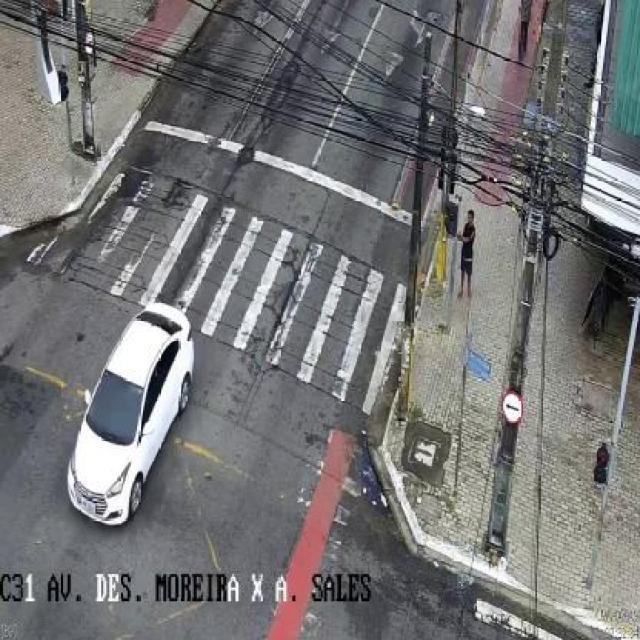Car: (62, 283, 202, 543)
